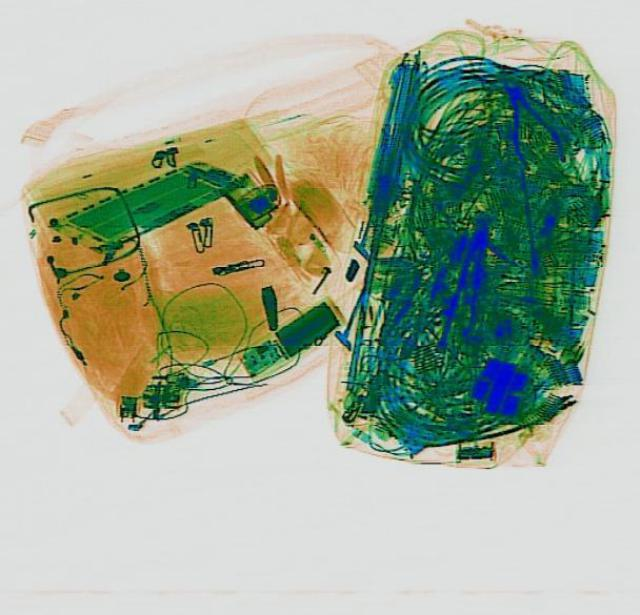Pliers: (435, 214, 499, 349), (487, 71, 567, 172)
